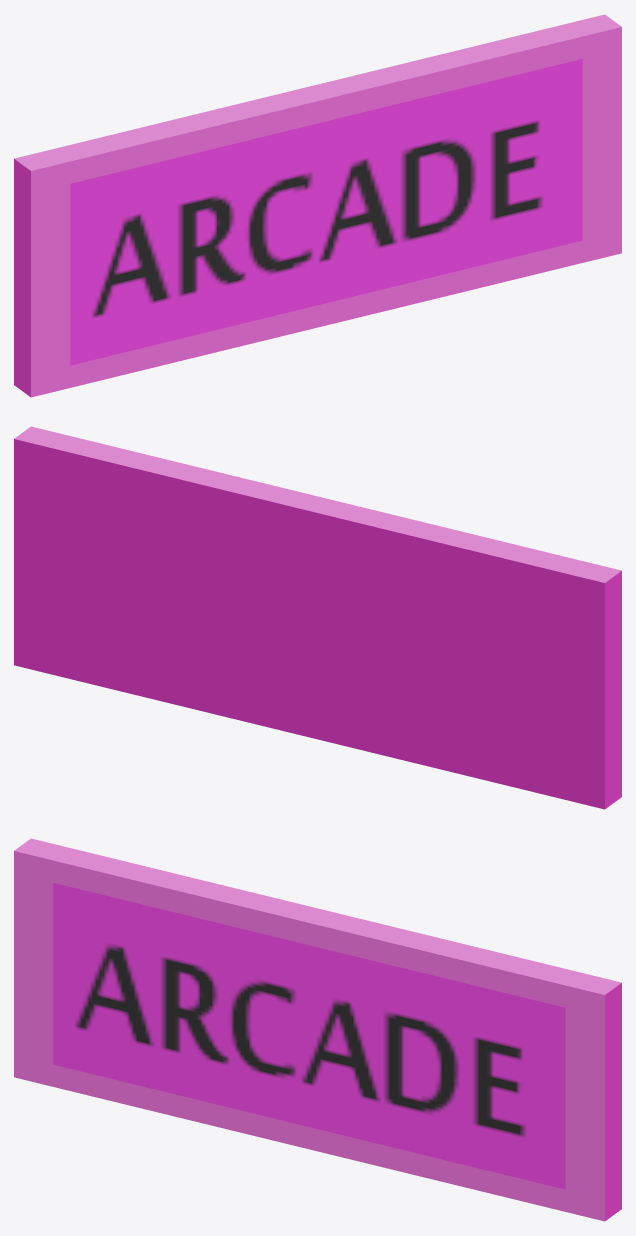
The model's file is SignArcade.glb.
The picture shows the model from 3 angles, top to bottom: view 1: azimuth 30°, elevation 25°; view 2: azimuth 150°, elevation 25°; view 3: azimuth 330°, elevation 25°; orthographic projection.
Visible parts, largest first — view 1: SI_Prop_Sign_Arcade_01; view 2: SI_Prop_Sign_Arcade_01; view 3: SI_Prop_Sign_Arcade_01.
Part boxes in pixels (x1,y1,x2,y2): SI_Prop_Sign_Arcade_01: (14, 14, 621, 397); SI_Prop_Sign_Arcade_01: (14, 426, 621, 809); SI_Prop_Sign_Arcade_01: (14, 838, 621, 1221).
Bounding box in the file's own units: 0.0204 × 0.00745 × 0.00102.
Materials: 1 (1 with a texture image).
